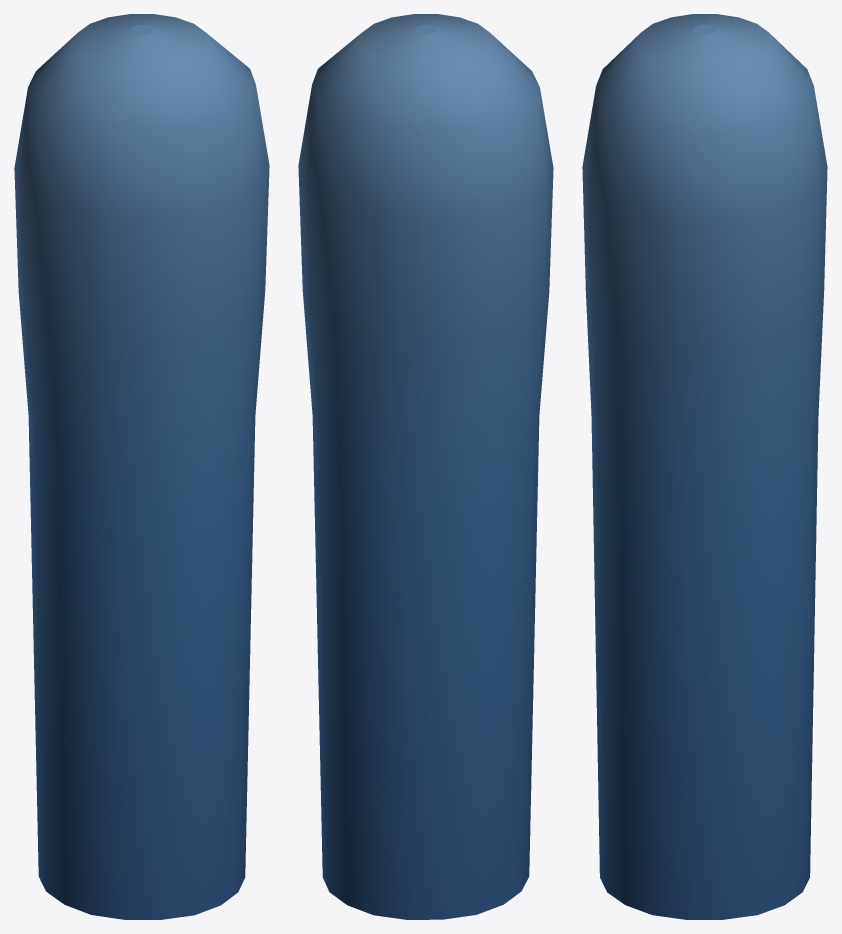
Rendered from merchant_lio_upper_r.glb.
3 renders of one model, left to right at view 1: azimuth 30°, elevation 25°; view 2: azimuth 150°, elevation 25°; view 3: azimuth 270°, elevation 25°, orthographic.
Visible parts, largest first — view 1: merchant_lio_upper_r; view 2: merchant_lio_upper_r; view 3: merchant_lio_upper_r.
Boxes of the visible parts, <box> form: merchant_lio_upper_r: <box>14,14,269,919</box>; merchant_lio_upper_r: <box>298,14,553,919</box>; merchant_lio_upper_r: <box>582,14,827,919</box>.
Size of the model in its own units: 0.3705 by 1.36 by 0.3564.
Materials: 1 (1 with a texture image).
